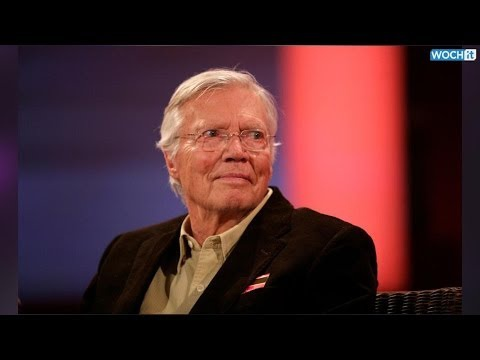bad: (175, 104, 282, 211)
